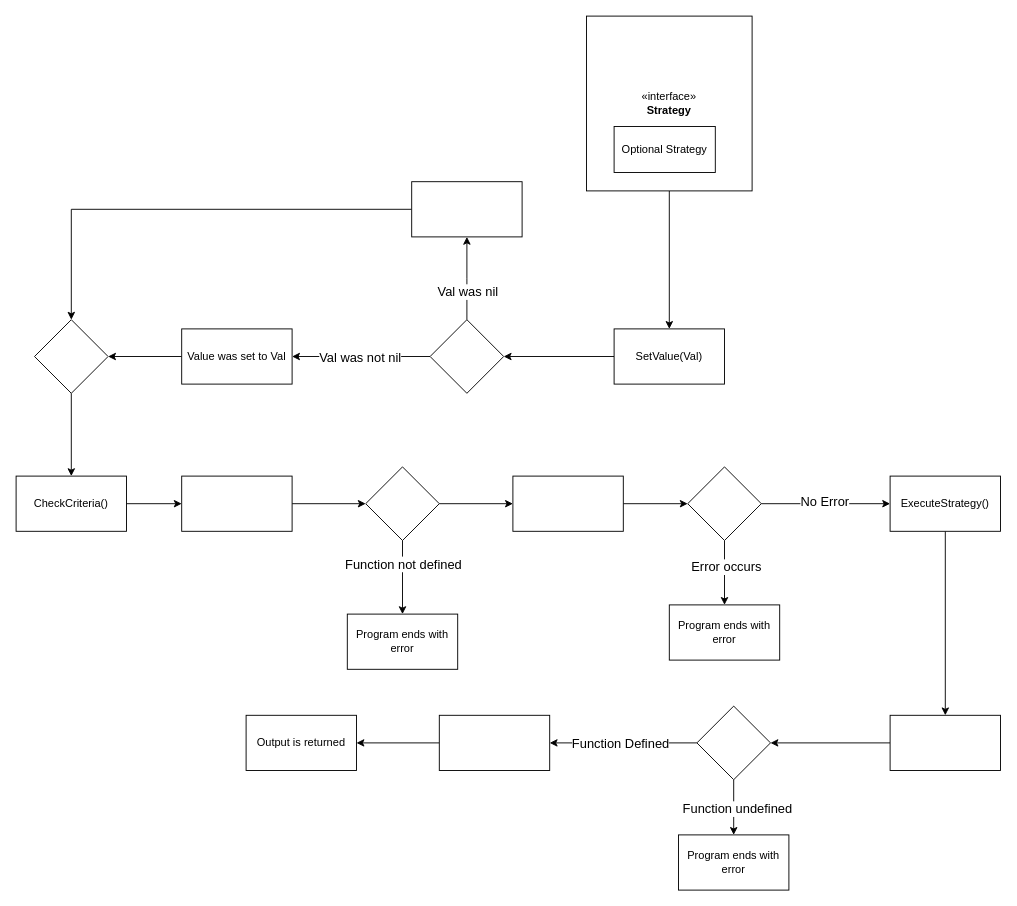
Image size: 1017x906. Some labels were removed from this diagram. Here are the shapes that lost their labels. From the top down, the centre of each, then its label:
At (x=466, y=209): "Default is used as Value".
At (x=236, y=503): "Check for defined Criteria function".
At (x=567, y=503): "Run Criteria(Value)".
At (x=494, y=742): "Run Strategy(Value)".
At (x=944, y=742): "Check for defined Strategy Function".
